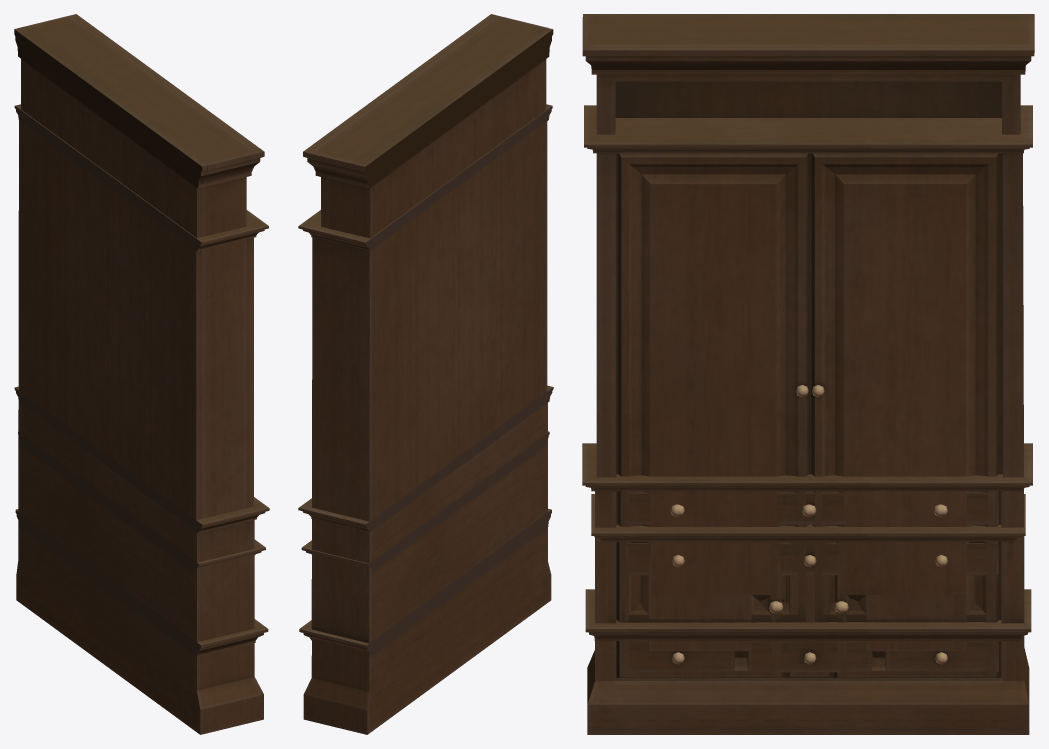
File: Cupboards.fbx
The picture shows the model from 3 angles, left to right: view 1: azimuth 30°, elevation 25°; view 2: azimuth 150°, elevation 25°; view 3: azimuth 270°, elevation 25°; orthographic projection. The views are drawn at different scales.
Visible parts, largest first — view 1: Wardrobe, Dresser, BookShelf, SideTable_2, SideTable; view 2: Wardrobe, Dresser, SideTable_2, BookShelf, SideTable; view 3: Wardrobe, Dresser, BookShelf, SideTable_2, SideTable.
Boxes of the visible parts, box(x1,y1,x2,y2) form: Wardrobe: box(14, 104, 268, 733); Dresser: box(14, 15, 269, 734); BookShelf: box(20, 14, 264, 518); SideTable_2: box(14, 386, 200, 733); SideTable: box(18, 432, 265, 572); Wardrobe: box(298, 104, 552, 734); Dresser: box(299, 15, 553, 729); SideTable_2: box(298, 391, 551, 734); BookShelf: box(303, 14, 547, 227); SideTable: box(301, 431, 549, 572); Wardrobe: box(584, 105, 1032, 734); Dresser: box(582, 14, 1034, 734); BookShelf: box(582, 17, 1034, 134); SideTable_2: box(584, 443, 1032, 734); SideTable: box(591, 494, 1025, 680).
Bounding box in the file's own units: 32.87 × 266 × 159.
Materials: 1 (1 with a texture image).
